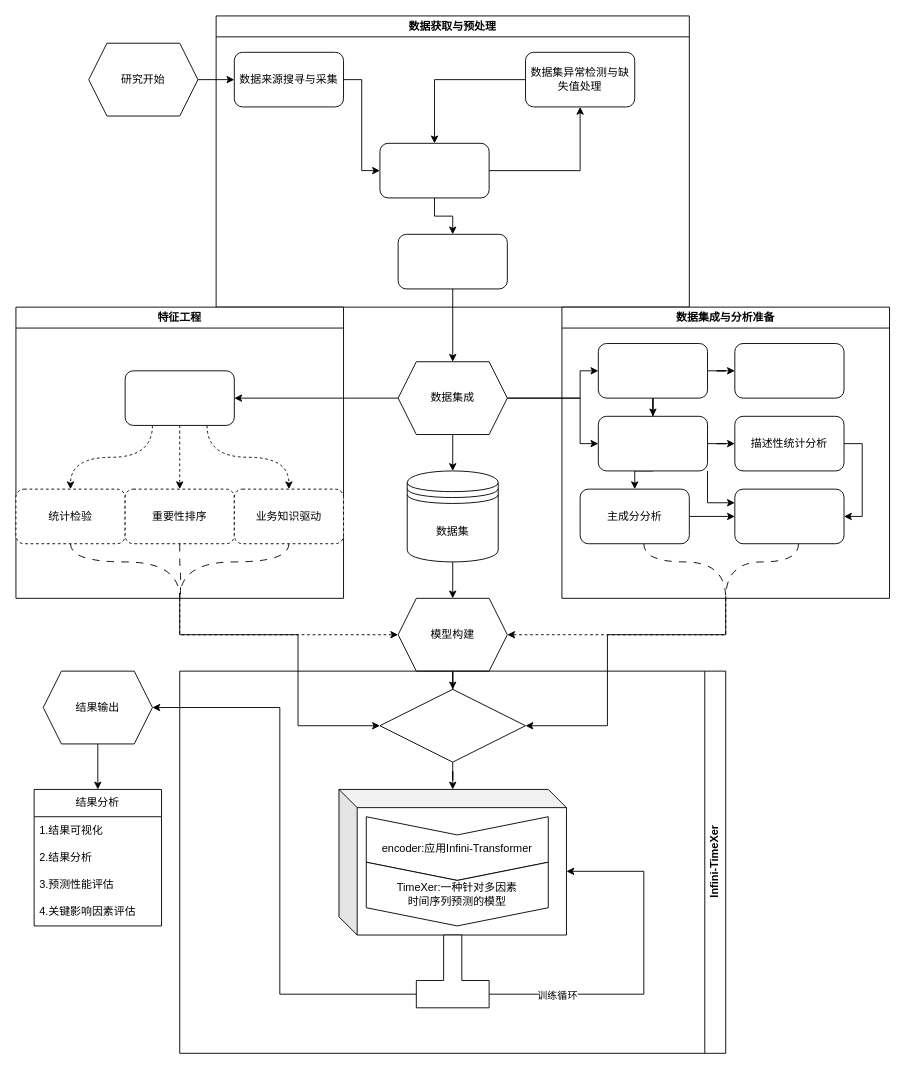
The diagram is 905 pixels wide and 1069 high, and some of its shapes have lost their labels. The centre of each missing label's shape, as x and y in pixels:
"分离内/外生变量" goes at (452,725).
"多源数据融合" goes at (789,370).
"影响因素分析" goes at (652,443).
"影响因素相关性分析" goes at (789,516).
"效果验证" goes at (452,971).
"数据清洗与转换" goes at (434,170).
"数据集格式标准化" goes at (452,261).
"时间序列数据对齐" goes at (652,370).
"特征选择" goes at (179,397).
